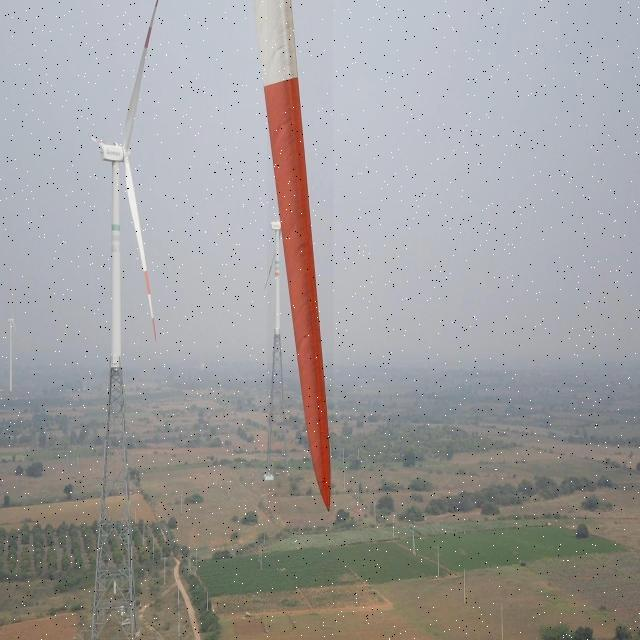Dirt: (259, 0, 332, 512)
